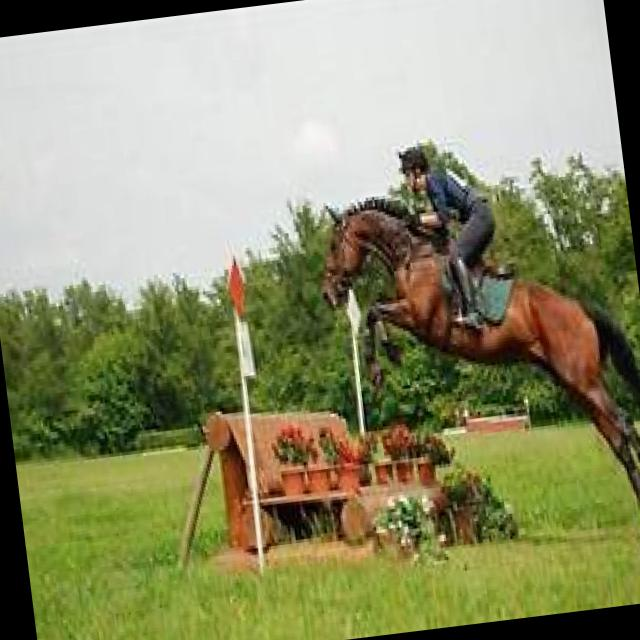animal: (296, 168, 640, 546)
